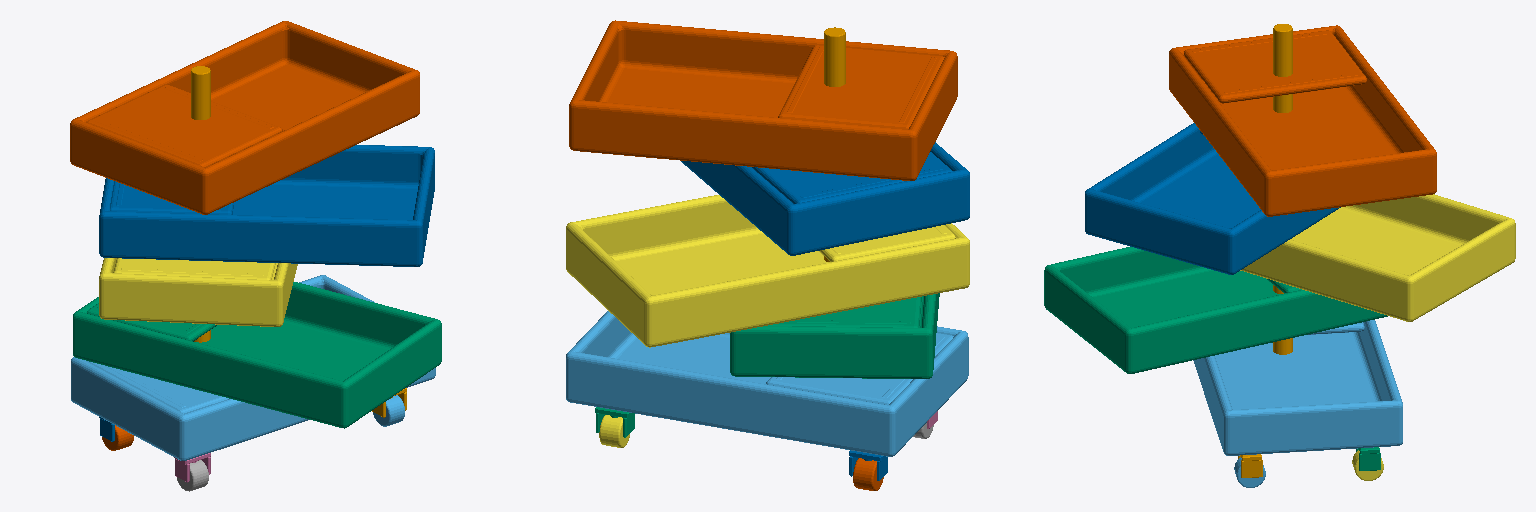
URDF robot description (rotating_tier_trolley):
<?xml version="1.0"?>
<robot name="rotating_tier_trolley">
  <!-- Generated for Isaac Sim. Units: meters. Coordinate system: Z-up, right-handed. -->
  <link name="base_link">
    <inertial>
      <origin xyz="0 0 0" rpy="0 0 0"/>
      <mass value="1"/>
      <inertia ixx="0.01" ixy="0" ixz="0" iyy="0.01" iyz="0" izz="0.01"/>
    </inertial>
    <visual>
      <origin xyz="0 0 0" rpy="0 0 0"/>
      <geometry><mesh filename="meshes/base_link.obj" scale="1 1 1"/></geometry>
    </visual>
    <collision>
      <origin xyz="0 0 0" rpy="0 0 0"/>
      <geometry><mesh filename="meshes/base_link.obj" scale="1 1 1"/></geometry>
    </collision>
  </link>
  <link name="tray_01_link">
    <inertial>
      <origin xyz="0 0 0" rpy="0 0 0"/>
      <mass value="0.35"/>
      <inertia ixx="0.01" ixy="0" ixz="0" iyy="0.01" iyz="0" izz="0.01"/>
    </inertial>
    <visual>
      <origin xyz="0 0 0" rpy="0 0 0"/>
      <geometry><mesh filename="meshes/tray_01_link.obj" scale="1 1 1"/></geometry>
    </visual>
    <collision>
      <origin xyz="0 0 0" rpy="0 0 0"/>
      <geometry><mesh filename="meshes/tray_01_link.obj" scale="1 1 1"/></geometry>
    </collision>
  </link>
  <link name="tray_02_link">
    <inertial>
      <origin xyz="0 0 0" rpy="0 0 0"/>
      <mass value="0.35"/>
      <inertia ixx="0.01" ixy="0" ixz="0" iyy="0.01" iyz="0" izz="0.01"/>
    </inertial>
    <visual>
      <origin xyz="0 0 0" rpy="0 0 0"/>
      <geometry><mesh filename="meshes/tray_02_link.obj" scale="1 1 1"/></geometry>
    </visual>
    <collision>
      <origin xyz="0 0 0" rpy="0 0 0"/>
      <geometry><mesh filename="meshes/tray_02_link.obj" scale="1 1 1"/></geometry>
    </collision>
  </link>
  <link name="tray_03_link">
    <inertial>
      <origin xyz="0 0 0" rpy="0 0 0"/>
      <mass value="0.35"/>
      <inertia ixx="0.01" ixy="0" ixz="0" iyy="0.01" iyz="0" izz="0.01"/>
    </inertial>
    <visual>
      <origin xyz="0 0 0" rpy="0 0 0"/>
      <geometry><mesh filename="meshes/tray_03_link.obj" scale="1 1 1"/></geometry>
    </visual>
    <collision>
      <origin xyz="0 0 0" rpy="0 0 0"/>
      <geometry><mesh filename="meshes/tray_03_link.obj" scale="1 1 1"/></geometry>
    </collision>
  </link>
  <link name="tray_04_link">
    <inertial>
      <origin xyz="0 0 0" rpy="0 0 0"/>
      <mass value="0.35"/>
      <inertia ixx="0.01" ixy="0" ixz="0" iyy="0.01" iyz="0" izz="0.01"/>
    </inertial>
    <visual>
      <origin xyz="0 0 0" rpy="0 0 0"/>
      <geometry><mesh filename="meshes/tray_04_link.obj" scale="1 1 1"/></geometry>
    </visual>
    <collision>
      <origin xyz="0 0 0" rpy="0 0 0"/>
      <geometry><mesh filename="meshes/tray_04_link.obj" scale="1 1 1"/></geometry>
    </collision>
  </link>
  <link name="tray_05_link">
    <inertial>
      <origin xyz="0 0 0" rpy="0 0 0"/>
      <mass value="0.35"/>
      <inertia ixx="0.01" ixy="0" ixz="0" iyy="0.01" iyz="0" izz="0.01"/>
    </inertial>
    <visual>
      <origin xyz="0 0 0" rpy="0 0 0"/>
      <geometry><mesh filename="meshes/tray_05_link.obj" scale="1 1 1"/></geometry>
    </visual>
    <collision>
      <origin xyz="0 0 0" rpy="0 0 0"/>
      <geometry><mesh filename="meshes/tray_05_link.obj" scale="1 1 1"/></geometry>
    </collision>
  </link>
  <link name="caster_01_bracket_link">
    <inertial>
      <origin xyz="0 0 0" rpy="0 0 0"/>
      <mass value="0.04"/>
      <inertia ixx="0.01" ixy="0" ixz="0" iyy="0.01" iyz="0" izz="0.01"/>
    </inertial>
    <visual>
      <origin xyz="0 0 0" rpy="0 0 0"/>
      <geometry><mesh filename="meshes/caster_01_bracket_link.obj" scale="1 1 1"/></geometry>
    </visual>
    <collision>
      <origin xyz="0 0 0" rpy="0 0 0"/>
      <geometry><mesh filename="meshes/caster_01_bracket_link.obj" scale="1 1 1"/></geometry>
    </collision>
  </link>
  <link name="caster_01_wheel_link">
    <inertial>
      <origin xyz="0 0 0" rpy="0 0 0"/>
      <mass value="0.03"/>
      <inertia ixx="0.01" ixy="0" ixz="0" iyy="0.01" iyz="0" izz="0.01"/>
    </inertial>
    <visual>
      <origin xyz="0 0 0" rpy="0 0 0"/>
      <geometry><mesh filename="meshes/caster_01_wheel_link.obj" scale="1 1 1"/></geometry>
    </visual>
    <collision>
      <origin xyz="0 0 0" rpy="0 0 0"/>
      <geometry><mesh filename="meshes/caster_01_wheel_link.obj" scale="1 1 1"/></geometry>
    </collision>
  </link>
  <link name="caster_02_bracket_link">
    <inertial>
      <origin xyz="0 0 0" rpy="0 0 0"/>
      <mass value="0.04"/>
      <inertia ixx="0.01" ixy="0" ixz="0" iyy="0.01" iyz="0" izz="0.01"/>
    </inertial>
    <visual>
      <origin xyz="0 0 0" rpy="0 0 0"/>
      <geometry><mesh filename="meshes/caster_02_bracket_link.obj" scale="1 1 1"/></geometry>
    </visual>
    <collision>
      <origin xyz="0 0 0" rpy="0 0 0"/>
      <geometry><mesh filename="meshes/caster_02_bracket_link.obj" scale="1 1 1"/></geometry>
    </collision>
  </link>
  <link name="caster_02_wheel_link">
    <inertial>
      <origin xyz="0 0 0" rpy="0 0 0"/>
      <mass value="0.03"/>
      <inertia ixx="0.01" ixy="0" ixz="0" iyy="0.01" iyz="0" izz="0.01"/>
    </inertial>
    <visual>
      <origin xyz="0 0 0" rpy="0 0 0"/>
      <geometry><mesh filename="meshes/caster_02_wheel_link.obj" scale="1 1 1"/></geometry>
    </visual>
    <collision>
      <origin xyz="0 0 0" rpy="0 0 0"/>
      <geometry><mesh filename="meshes/caster_02_wheel_link.obj" scale="1 1 1"/></geometry>
    </collision>
  </link>
  <link name="caster_03_bracket_link">
    <inertial>
      <origin xyz="0 0 0" rpy="0 0 0"/>
      <mass value="0.04"/>
      <inertia ixx="0.01" ixy="0" ixz="0" iyy="0.01" iyz="0" izz="0.01"/>
    </inertial>
    <visual>
      <origin xyz="0 0 0" rpy="0 0 0"/>
      <geometry><mesh filename="meshes/caster_03_bracket_link.obj" scale="1 1 1"/></geometry>
    </visual>
    <collision>
      <origin xyz="0 0 0" rpy="0 0 0"/>
      <geometry><mesh filename="meshes/caster_03_bracket_link.obj" scale="1 1 1"/></geometry>
    </collision>
  </link>
  <link name="caster_03_wheel_link">
    <inertial>
      <origin xyz="0 0 0" rpy="0 0 0"/>
      <mass value="0.03"/>
      <inertia ixx="0.01" ixy="0" ixz="0" iyy="0.01" iyz="0" izz="0.01"/>
    </inertial>
    <visual>
      <origin xyz="0 0 0" rpy="0 0 0"/>
      <geometry><mesh filename="meshes/caster_03_wheel_link.obj" scale="1 1 1"/></geometry>
    </visual>
    <collision>
      <origin xyz="0 0 0" rpy="0 0 0"/>
      <geometry><mesh filename="meshes/caster_03_wheel_link.obj" scale="1 1 1"/></geometry>
    </collision>
  </link>
  <link name="caster_04_bracket_link">
    <inertial>
      <origin xyz="0 0 0" rpy="0 0 0"/>
      <mass value="0.04"/>
      <inertia ixx="0.01" ixy="0" ixz="0" iyy="0.01" iyz="0" izz="0.01"/>
    </inertial>
    <visual>
      <origin xyz="0 0 0" rpy="0 0 0"/>
      <geometry><mesh filename="meshes/caster_04_bracket_link.obj" scale="1 1 1"/></geometry>
    </visual>
    <collision>
      <origin xyz="0 0 0" rpy="0 0 0"/>
      <geometry><mesh filename="meshes/caster_04_bracket_link.obj" scale="1 1 1"/></geometry>
    </collision>
  </link>
  <link name="caster_04_wheel_link">
    <inertial>
      <origin xyz="0 0 0" rpy="0 0 0"/>
      <mass value="0.03"/>
      <inertia ixx="0.01" ixy="0" ixz="0" iyy="0.01" iyz="0" izz="0.01"/>
    </inertial>
    <visual>
      <origin xyz="0 0 0" rpy="0 0 0"/>
      <geometry><mesh filename="meshes/caster_04_wheel_link.obj" scale="1 1 1"/></geometry>
    </visual>
    <collision>
      <origin xyz="0 0 0" rpy="0 0 0"/>
      <geometry><mesh filename="meshes/caster_04_wheel_link.obj" scale="1 1 1"/></geometry>
    </collision>
  </link>
  <joint name="tray_01_yaw_joint" type="continuous">
    <parent link="base_link"/>
    <child link="tray_01_link"/>
    <origin xyz="0 0 0.14" rpy="0 0 0.13962634"/>
    <axis xyz="0 0 1"/>
    <dynamics damping="0.05" friction="0.0"/>
  </joint>
  <joint name="tray_02_yaw_joint" type="continuous">
    <parent link="base_link"/>
    <child link="tray_02_link"/>
    <origin xyz="0 0 0.375" rpy="0 0 -1.08210414"/>
    <axis xyz="0 0 1"/>
    <dynamics damping="0.05" friction="0.0"/>
  </joint>
  <joint name="tray_03_yaw_joint" type="continuous">
    <parent link="base_link"/>
    <child link="tray_03_link"/>
    <origin xyz="0 0 0.61" rpy="0 0 0.942477796"/>
    <axis xyz="0 0 1"/>
    <dynamics damping="0.05" friction="0.0"/>
  </joint>
  <joint name="tray_04_yaw_joint" type="continuous">
    <parent link="base_link"/>
    <child link="tray_04_link"/>
    <origin xyz="0 0 0.845" rpy="0 0 -0.593411946"/>
    <axis xyz="0 0 1"/>
    <dynamics damping="0.05" friction="0.0"/>
  </joint>
  <joint name="tray_05_yaw_joint" type="continuous">
    <parent link="base_link"/>
    <child link="tray_05_link"/>
    <origin xyz="0 0 1.08" rpy="0 0 0.314159265"/>
    <axis xyz="0 0 1"/>
    <dynamics damping="0.05" friction="0.0"/>
  </joint>
  <joint name="caster_01_swivel_joint" type="continuous">
    <parent link="tray_01_link"/>
    <child link="caster_01_bracket_link"/>
    <origin xyz="-0.2 -0.21 -0.035" rpy="0 0 0"/>
    <axis xyz="0 0 1"/>
    <dynamics damping="0.05" friction="0.0"/>
  </joint>
  <joint name="caster_01_wheel_roll_joint" type="continuous">
    <parent link="caster_01_bracket_link"/>
    <child link="caster_01_wheel_link"/>
    <origin xyz="0 0 -0.083" rpy="0 0 0"/>
    <axis xyz="1 0 0"/>
    <dynamics damping="0.05" friction="0.0"/>
  </joint>
  <joint name="caster_02_swivel_joint" type="continuous">
    <parent link="tray_01_link"/>
    <child link="caster_02_bracket_link"/>
    <origin xyz="0.66 -0.21 -0.035" rpy="0 0 0"/>
    <axis xyz="0 0 1"/>
    <dynamics damping="0.05" friction="0.0"/>
  </joint>
  <joint name="caster_02_wheel_roll_joint" type="continuous">
    <parent link="caster_02_bracket_link"/>
    <child link="caster_02_wheel_link"/>
    <origin xyz="0 0 -0.083" rpy="0 0 0"/>
    <axis xyz="1 0 0"/>
    <dynamics damping="0.05" friction="0.0"/>
  </joint>
  <joint name="caster_03_swivel_joint" type="continuous">
    <parent link="tray_01_link"/>
    <child link="caster_03_bracket_link"/>
    <origin xyz="0.66 0.21 -0.035" rpy="0 0 0"/>
    <axis xyz="0 0 1"/>
    <dynamics damping="0.05" friction="0.0"/>
  </joint>
  <joint name="caster_03_wheel_roll_joint" type="continuous">
    <parent link="caster_03_bracket_link"/>
    <child link="caster_03_wheel_link"/>
    <origin xyz="0 0 -0.083" rpy="0 0 0"/>
    <axis xyz="1 0 0"/>
    <dynamics damping="0.05" friction="0.0"/>
  </joint>
  <joint name="caster_04_swivel_joint" type="continuous">
    <parent link="tray_01_link"/>
    <child link="caster_04_bracket_link"/>
    <origin xyz="-0.2 0.21 -0.035" rpy="0 0 0"/>
    <axis xyz="0 0 1"/>
    <dynamics damping="0.05" friction="0.0"/>
  </joint>
  <joint name="caster_04_wheel_roll_joint" type="continuous">
    <parent link="caster_04_bracket_link"/>
    <child link="caster_04_wheel_link"/>
    <origin xyz="0 0 -0.083" rpy="0 0 0"/>
    <axis xyz="1 0 0"/>
    <dynamics damping="0.05" friction="0.0"/>
  </joint>
</robot>

--- Render facts (derived) ---
Views: 3 orthographic renders of the robot side by side, from view 1: azimuth 30°, elevation 25°; view 2: azimuth 150°, elevation 25°; view 3: azimuth 270°, elevation 25°.
Model rotating_tier_trolley with 14 links and 13 joints (13 continuous), rooted at base_link, posed all joints at 0.
Visible links, largest first — view 1: tray_05_link, tray_02_link, tray_04_link, tray_01_link, tray_03_link, base_link, caster_01_wheel_link, caster_02_wheel_link; view 2: tray_05_link, tray_03_link, tray_01_link, tray_04_link, tray_02_link, base_link, caster_04_wheel_link, caster_03_wheel_link, caster_03_bracket_link, caster_04_bracket_link; view 3: tray_05_link, tray_02_link, tray_03_link, tray_01_link, tray_04_link, base_link.
Link boxes in pixels (bbox=[...]): tray_05_link: bbox=[70, 21, 419, 214]; tray_02_link: bbox=[73, 282, 441, 428]; tray_04_link: bbox=[99, 145, 434, 266]; tray_01_link: bbox=[71, 275, 435, 460]; tray_03_link: bbox=[99, 258, 297, 326]; base_link: bbox=[191, 66, 210, 342]; caster_01_wheel_link: bbox=[177, 460, 208, 491]; caster_02_wheel_link: bbox=[373, 395, 404, 426]; tray_05_link: bbox=[569, 20, 957, 180]; tray_03_link: bbox=[566, 195, 969, 347]; tray_01_link: bbox=[566, 311, 968, 456]; tray_04_link: bbox=[681, 142, 969, 255]; tray_02_link: bbox=[730, 293, 939, 378]; base_link: bbox=[824, 27, 845, 261]; caster_04_wheel_link: bbox=[853, 458, 883, 490]; caster_03_wheel_link: bbox=[599, 415, 629, 447]; caster_03_bracket_link: bbox=[595, 407, 634, 437]; caster_04_bracket_link: bbox=[849, 450, 887, 480]; tray_05_link: bbox=[1169, 25, 1436, 216]; tray_02_link: bbox=[1044, 247, 1387, 373]; tray_03_link: bbox=[1240, 194, 1515, 321]; tray_01_link: bbox=[1193, 320, 1402, 455]; tray_04_link: bbox=[1085, 123, 1340, 274]; base_link: bbox=[1273, 24, 1292, 354].
Bounding box of the posed robot: 1.29 × 1.66 × 1.46 m (x, y, z).
14 mesh visuals loaded from 14 distinct referenced files (14 OBJ).
